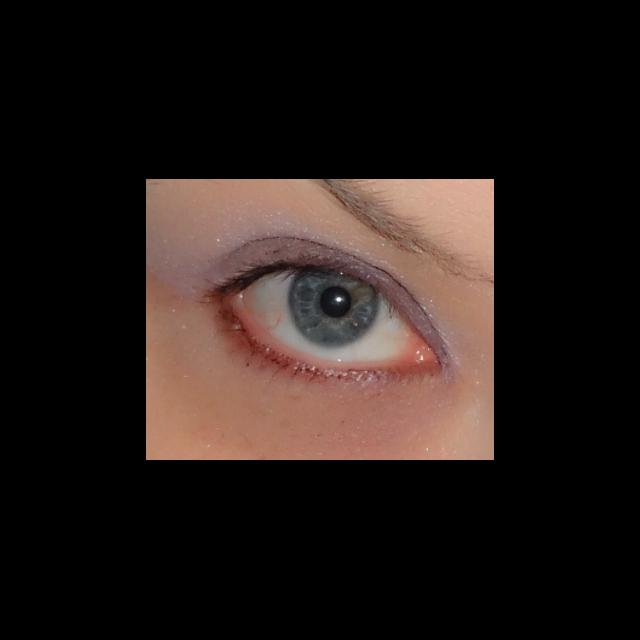eye: (243, 266, 417, 366)
iris: (290, 271, 380, 347)
